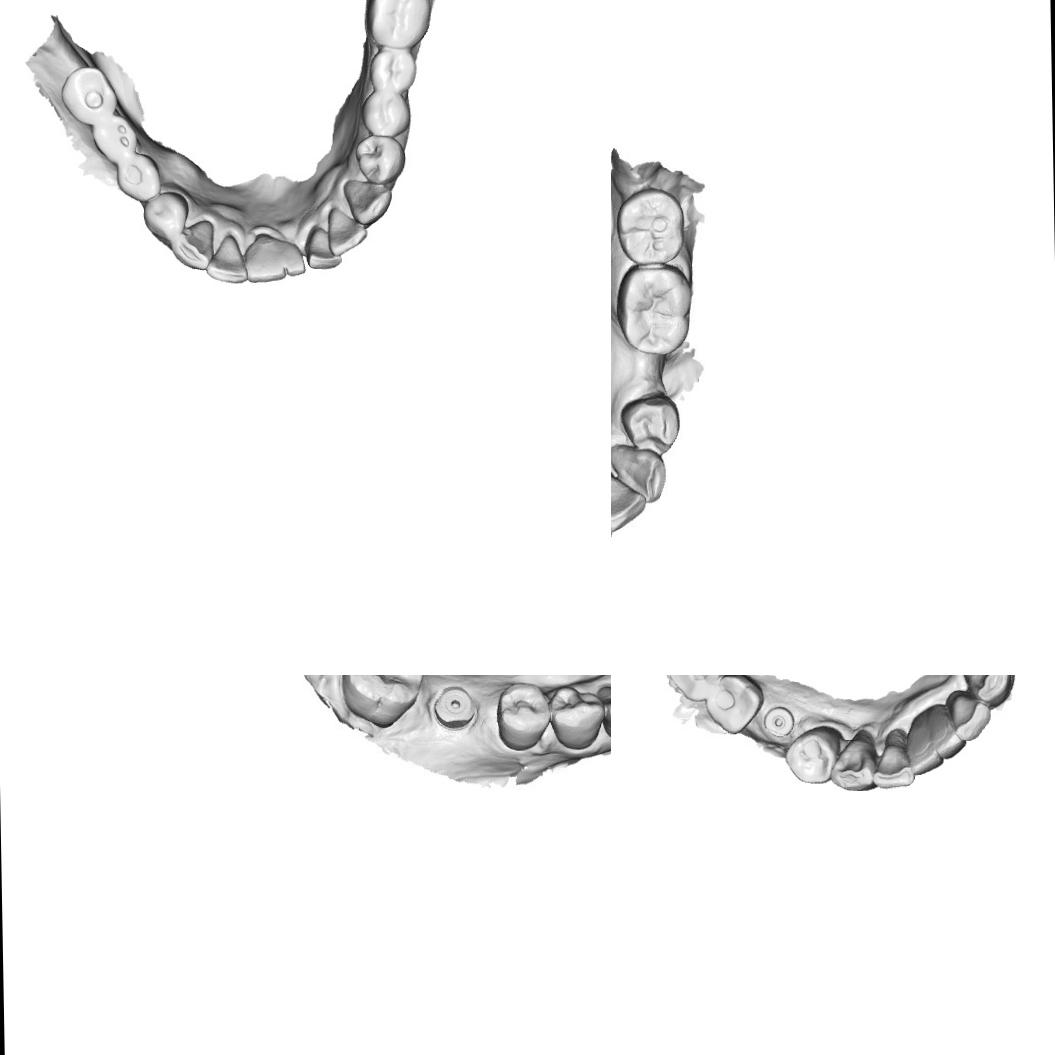canine: (611, 436, 662, 503), (341, 175, 402, 227), (165, 217, 218, 273), (828, 736, 876, 792), (962, 675, 1014, 709), (597, 679, 611, 744)
implant: (431, 682, 482, 734), (762, 706, 795, 737)
incisor: (241, 229, 291, 286), (205, 230, 249, 286), (326, 204, 370, 258), (870, 741, 916, 791), (302, 221, 342, 272), (950, 695, 992, 742), (611, 473, 643, 531), (906, 731, 944, 776), (929, 721, 966, 760), (280, 241, 308, 277)
molar: (616, 261, 692, 355), (614, 187, 688, 270), (335, 675, 427, 729), (59, 63, 121, 125), (703, 675, 764, 735), (364, 0, 429, 47), (364, 46, 420, 94), (92, 109, 142, 162), (665, 675, 726, 702)
premolar: (495, 678, 551, 756), (782, 724, 844, 786), (551, 686, 605, 752), (359, 90, 418, 144), (115, 152, 172, 206), (622, 395, 676, 450), (142, 190, 193, 240), (356, 134, 408, 182)
